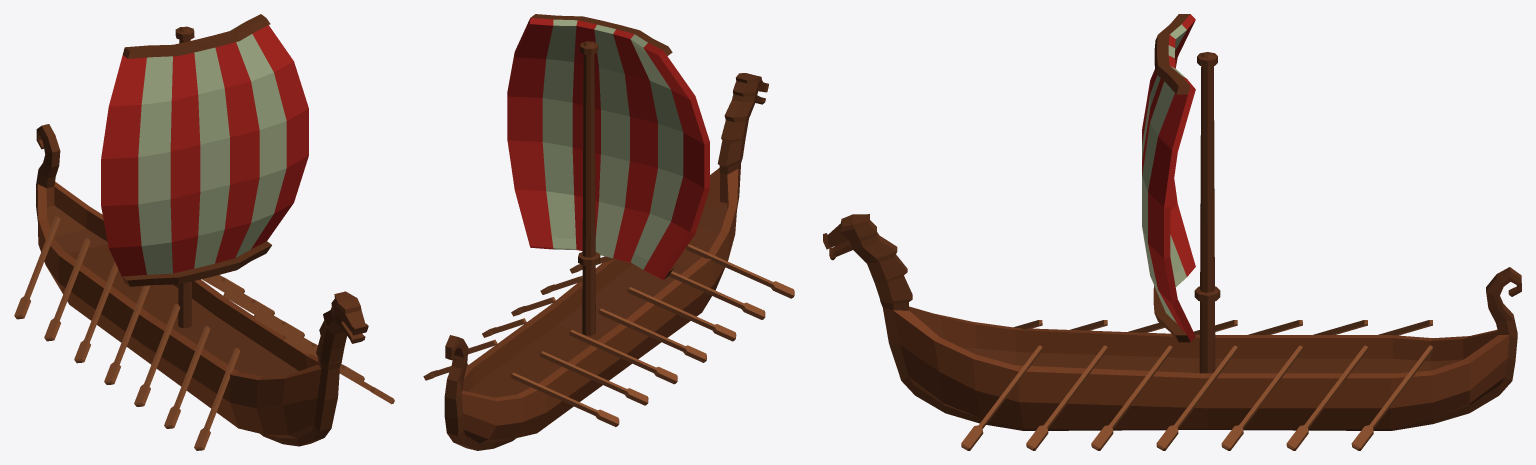
Rendered from Viking boat.obj.
3 renders of one model, left to right at view 1: azimuth 30°, elevation 25°; view 2: azimuth 150°, elevation 25°; view 3: azimuth 270°, elevation 25°, orthographic. The views are drawn at different scales.
Visible parts, largest first — view 1: Sail_Plane, Viking_Ship_Cylinder; view 2: Viking_Ship_Cylinder, Sail_Plane; view 3: Viking_Ship_Cylinder, Sail_Plane.
Boxes of the visible parts, x1,y1,x2,y2 form: Sail_Plane: (101, 14, 308, 286); Viking_Ship_Cylinder: (14, 26, 394, 450); Viking_Ship_Cylinder: (423, 41, 794, 450); Sail_Plane: (507, 14, 709, 279); Viking_Ship_Cylinder: (823, 52, 1521, 450); Sail_Plane: (1142, 14, 1195, 342).
Bounding box in the file's own units: 1.57 × 2.51 × 4.2.
